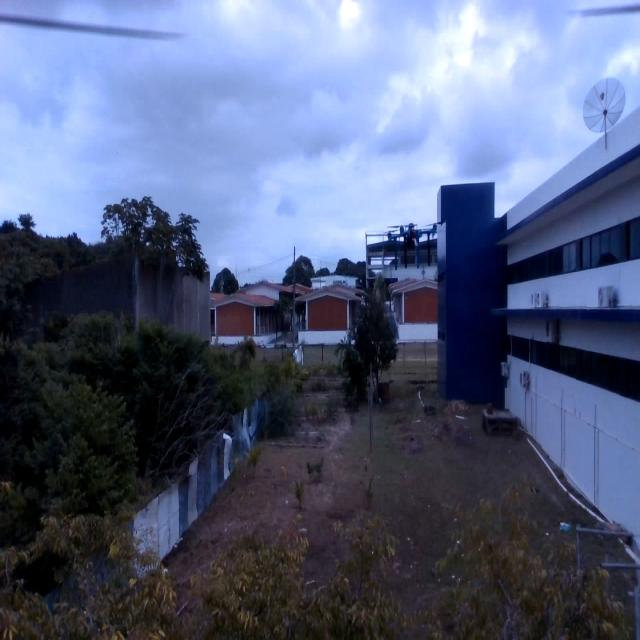-uav-: (374, 209, 442, 281)
